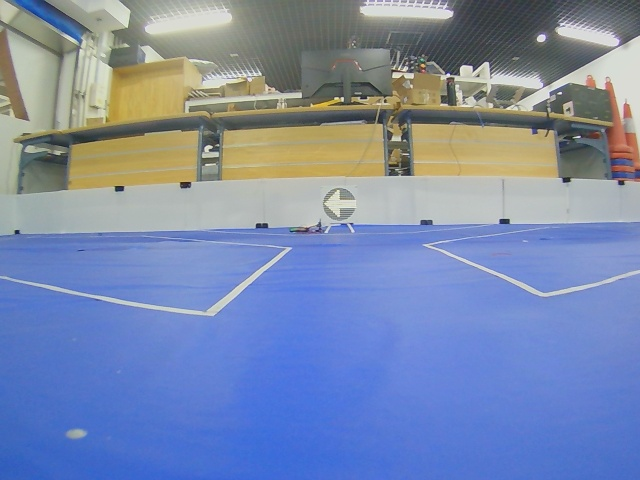left_yellow: (323, 188, 357, 221)
